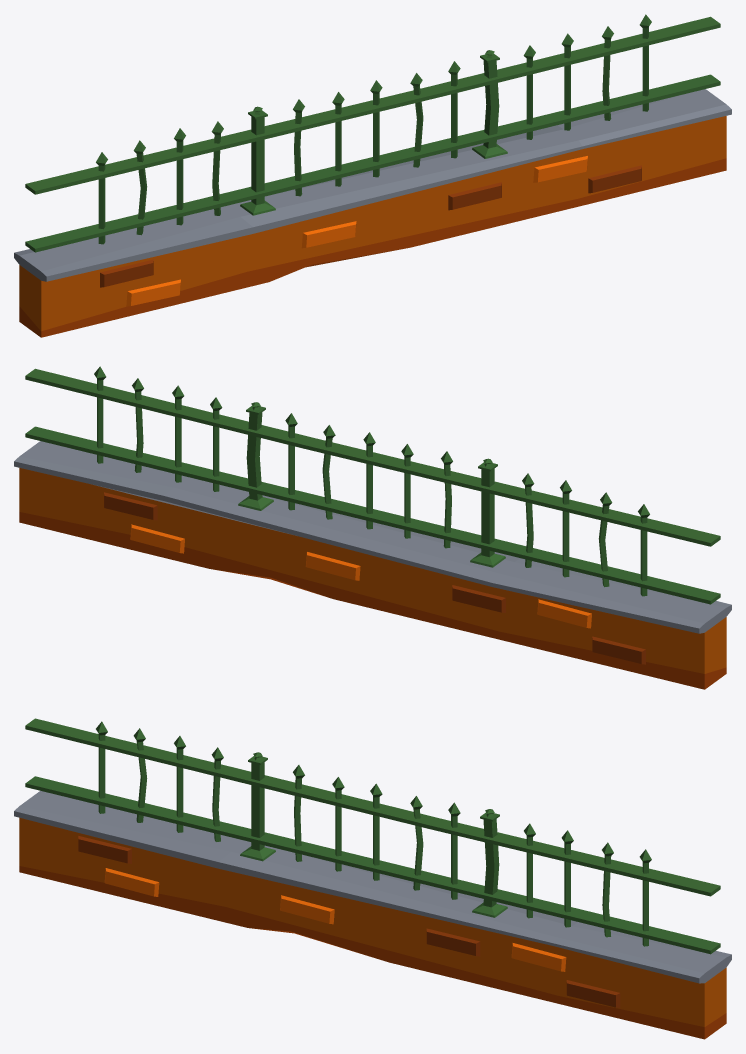
The picture shows the model from 3 angles, top to bottom: view 1: azimuth 30°, elevation 25°; view 2: azimuth 150°, elevation 25°; view 3: azimuth 330°, elevation 25°; orthographic projection.
Visible parts, largest first — view 1: SM_Env_Fence_01 (19)_0; view 2: SM_Env_Fence_01 (19)_0; view 3: SM_Env_Fence_01 (19)_0.
Part boxes in pixels (x1=…): SM_Env_Fence_01 (19)_0: x1=14, y1=14, x2=731, y2=337; SM_Env_Fence_01 (19)_0: x1=14, y1=366, x2=731, y2=689; SM_Env_Fence_01 (19)_0: x1=14, y1=718, x2=731, y2=1039.
Bounding box in the file's own units: 50 × 11.64 × 4.45.
Materials: 1 (1 with a texture image).
